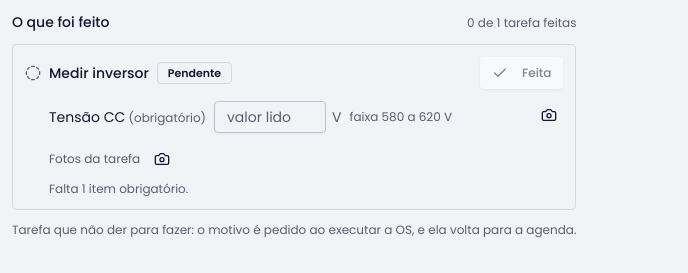
Test: OQueFoiFeito: leituras › texto que não é número não grava e avisa
The width and height of the screenshot is (688, 273).
In the field labelled "Tensão CC (obrigatório)": (270, 117) [214,101,326,133], type "12V"
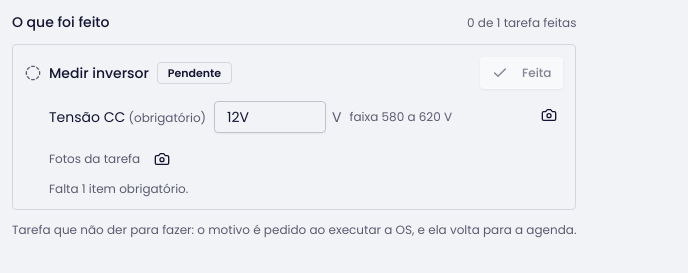
Leave the field labelled "Tensão CC (obrigatório)", box [214,101,326,133]
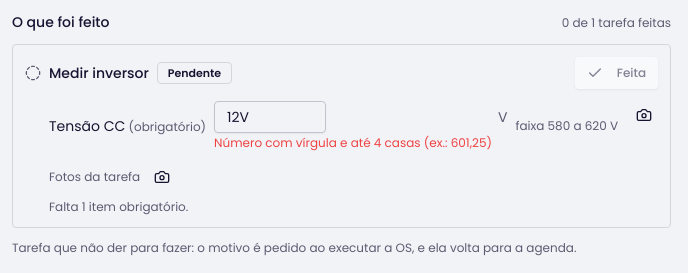
Result: the message shows "vírgula e até 4 casas" at [214,134,492,151]
